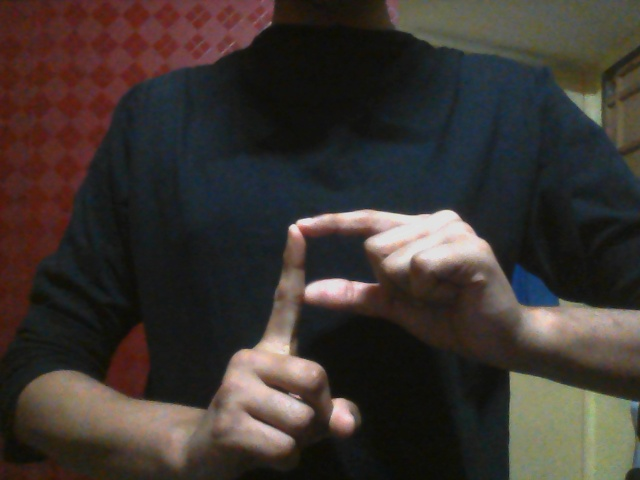P: (217, 206, 505, 473)
